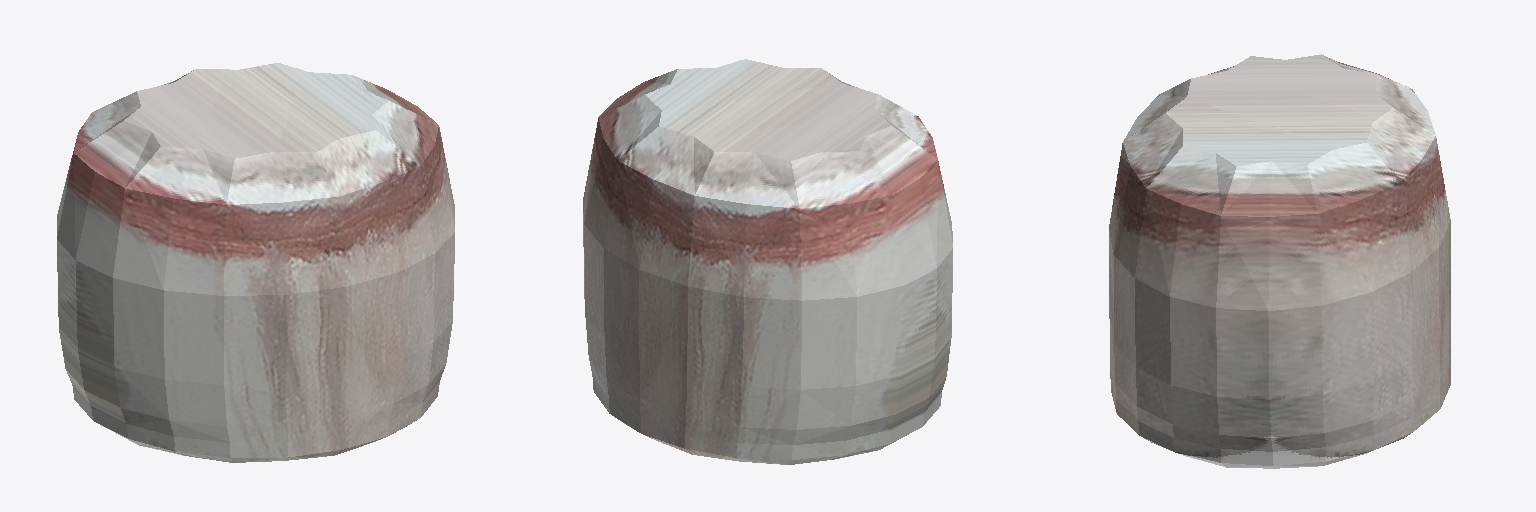
3 views of the same model, side by side, from view 1: azimuth 30°, elevation 25°; view 2: azimuth 150°, elevation 25°; view 3: azimuth 270°, elevation 25° (orthographic).
Visible parts, largest first — view 1: 000_Cylinder_-_baked; view 2: 000_Cylinder_-_baked; view 3: 000_Cylinder_-_baked.
Boxes of the visible parts, <box> form: 000_Cylinder_-_baked: <box>57,63,454,462</box>; 000_Cylinder_-_baked: <box>583,59,952,464</box>; 000_Cylinder_-_baked: <box>1109,54,1450,468</box>.
Bounding box in the file's own units: 187 × 151 × 159.
Materials: 1 (1 with a texture image).